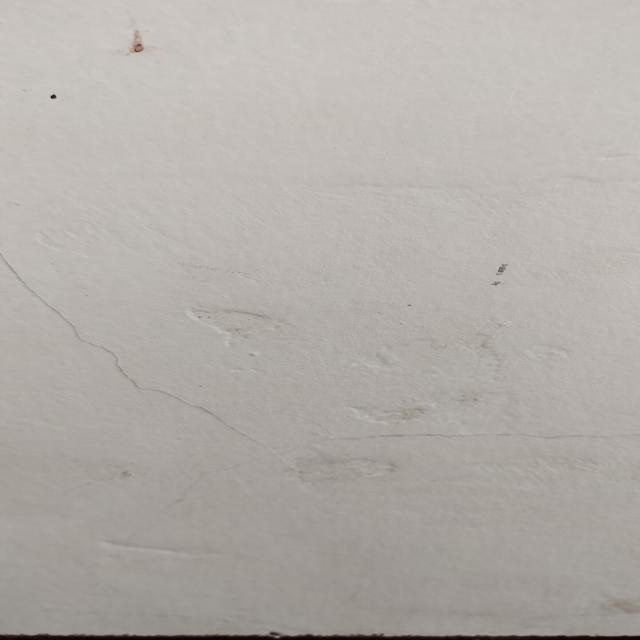Crack: (0, 254, 287, 453), (310, 431, 640, 443)
